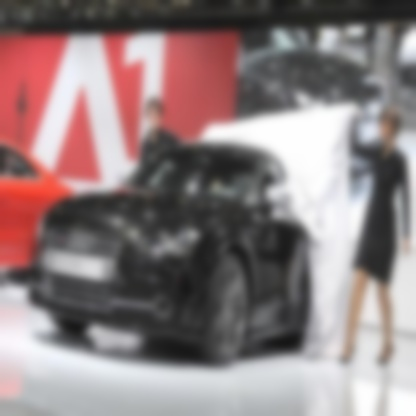Vehicle: (28, 142, 311, 364)
